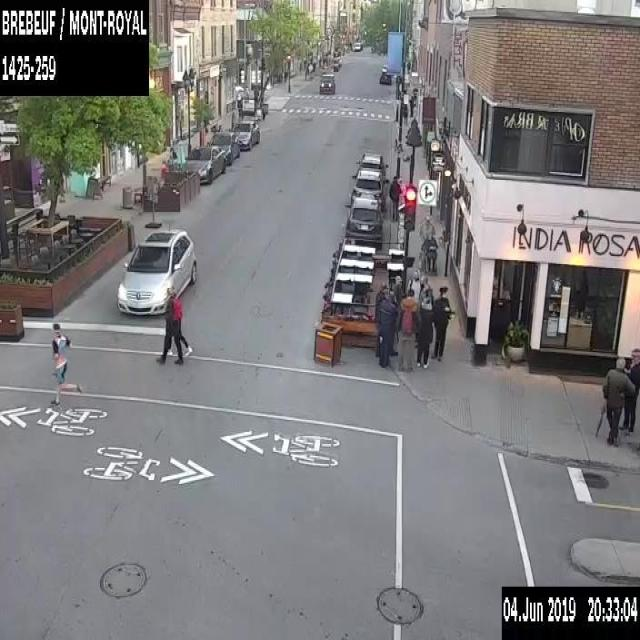construction: (144, 176, 162, 226)
pedestrian: (596, 358, 634, 443), (49, 320, 86, 404), (155, 287, 181, 364), (397, 286, 418, 368), (374, 291, 396, 367), (434, 282, 454, 361), (620, 346, 639, 429), (418, 296, 434, 369), (419, 234, 437, 274), (387, 176, 401, 221), (407, 92, 415, 117)
vehicle: (115, 226, 196, 314), (343, 196, 383, 243), (181, 145, 226, 184), (350, 169, 384, 207), (207, 132, 240, 166), (230, 119, 260, 148), (355, 152, 385, 178), (376, 65, 392, 84), (319, 73, 334, 92), (351, 40, 363, 52)
